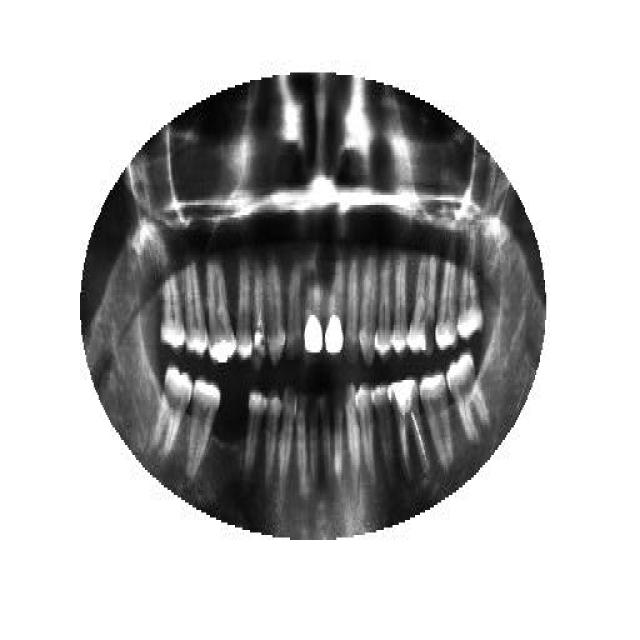Cavity: (408, 250, 438, 360)
Fillings: (205, 255, 235, 363), (303, 240, 325, 358), (324, 248, 346, 358)
Implant: (390, 378, 431, 478)
